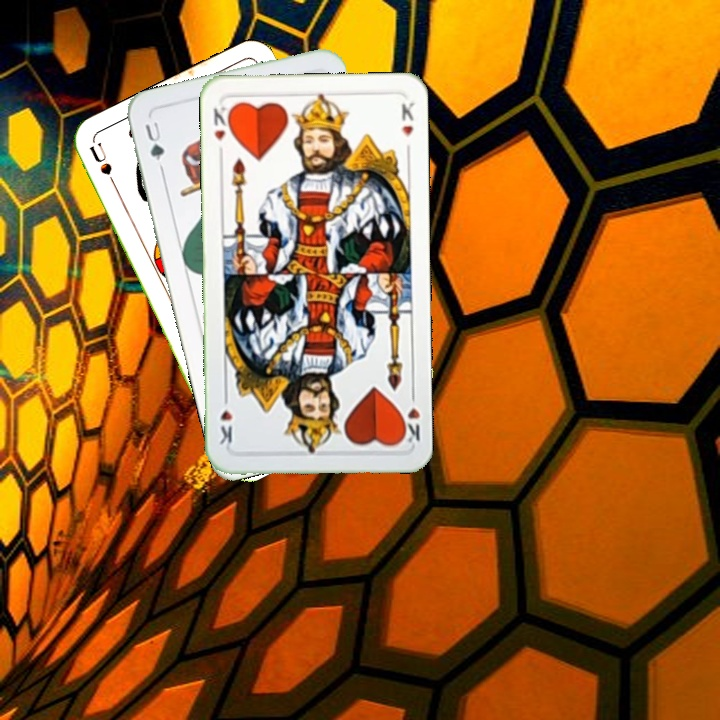GU: (140, 117, 167, 173)
HK: (397, 387, 423, 445), (209, 103, 234, 159)
SU: (85, 139, 123, 196)
